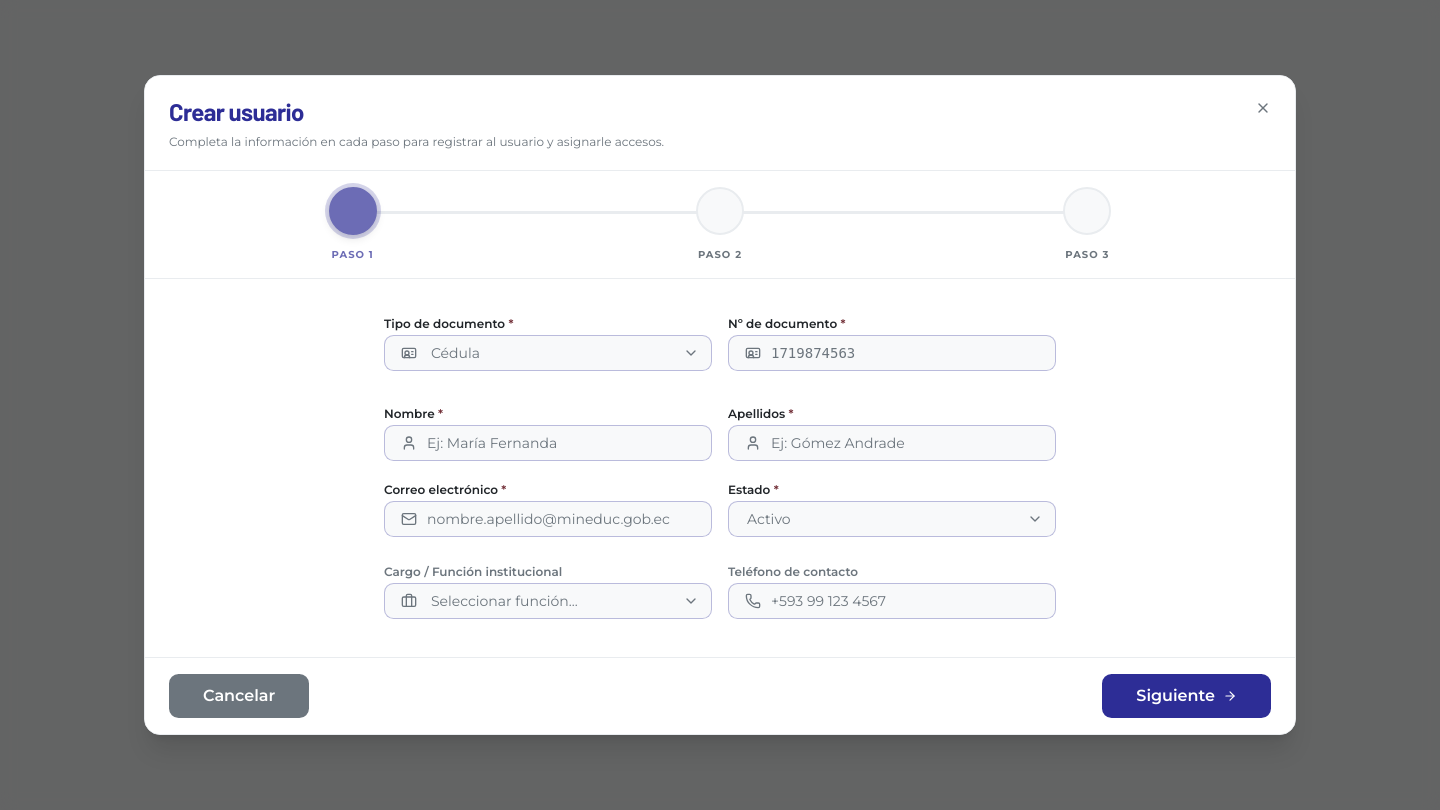
Test case: UsuarioModalForm - Document and Phone Validations › sanitizes phone input to allow leading plus and digits only, capped at 15 digits
Note: Type invalid characters in phone field
Type "+593abc 99-1234567" into the field with placeholder "+593 99 123 4567" at (904,601), box x1=761 y1=584 x2=1047 y2=618
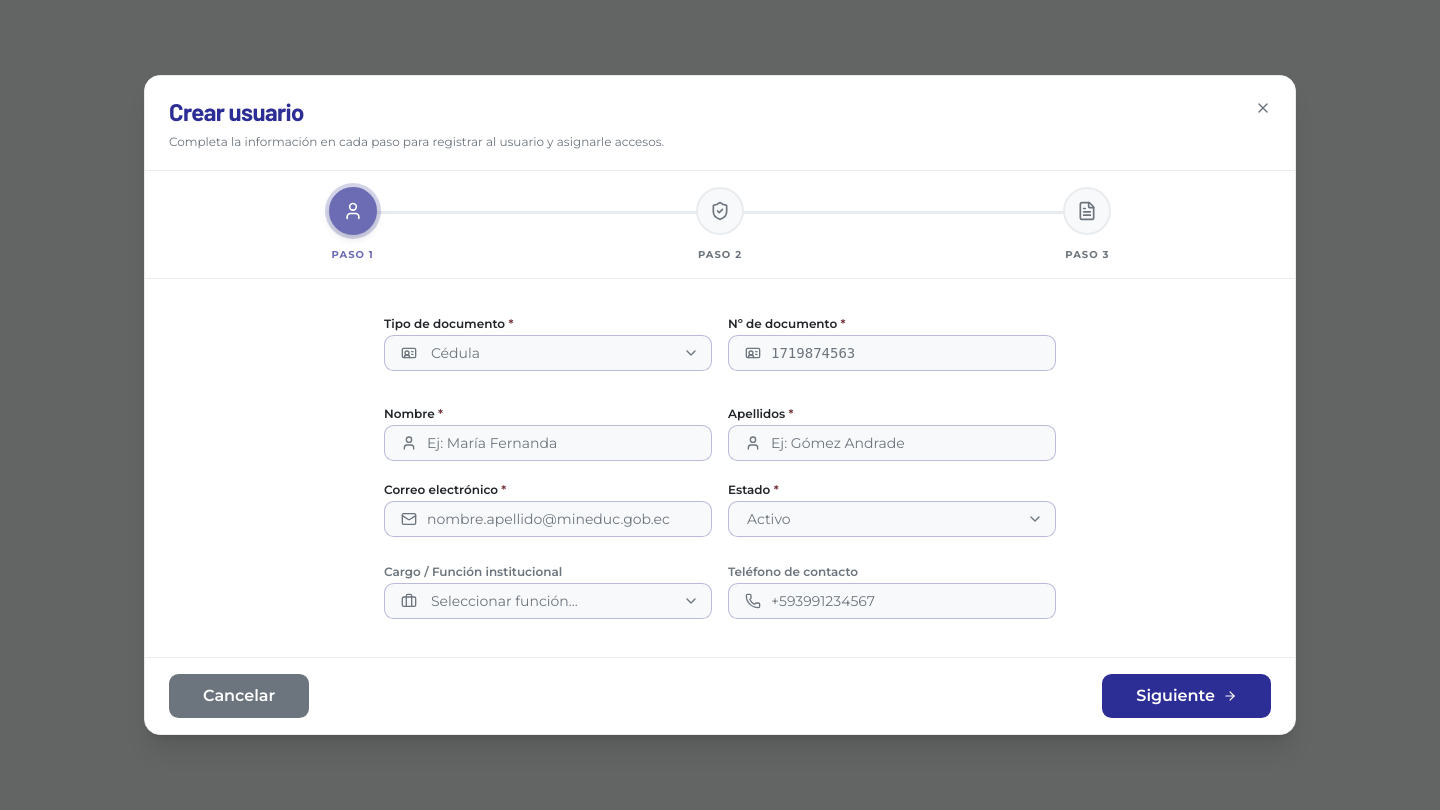
Expected: the field with placeholder "+593 99 123 4567" holds "+593991234567", x1=761 y1=584 x2=1047 y2=618
